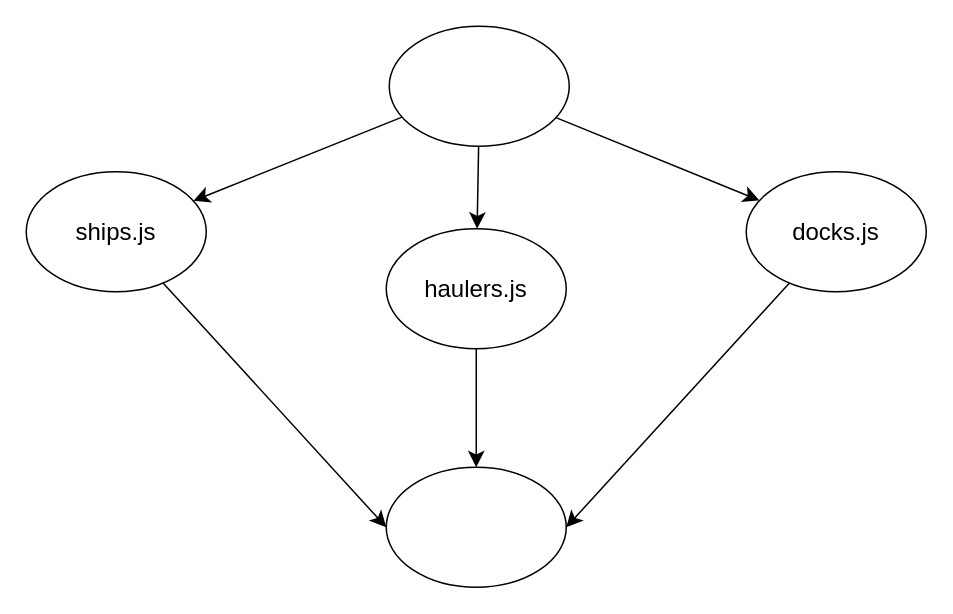
This 953x614 diagram has some shape labels left out. Here are the shapes that lost their labels. From the top down, the centre of each, then its label:
At point (478, 85): "main.js".
At point (475, 526): "database.js".
